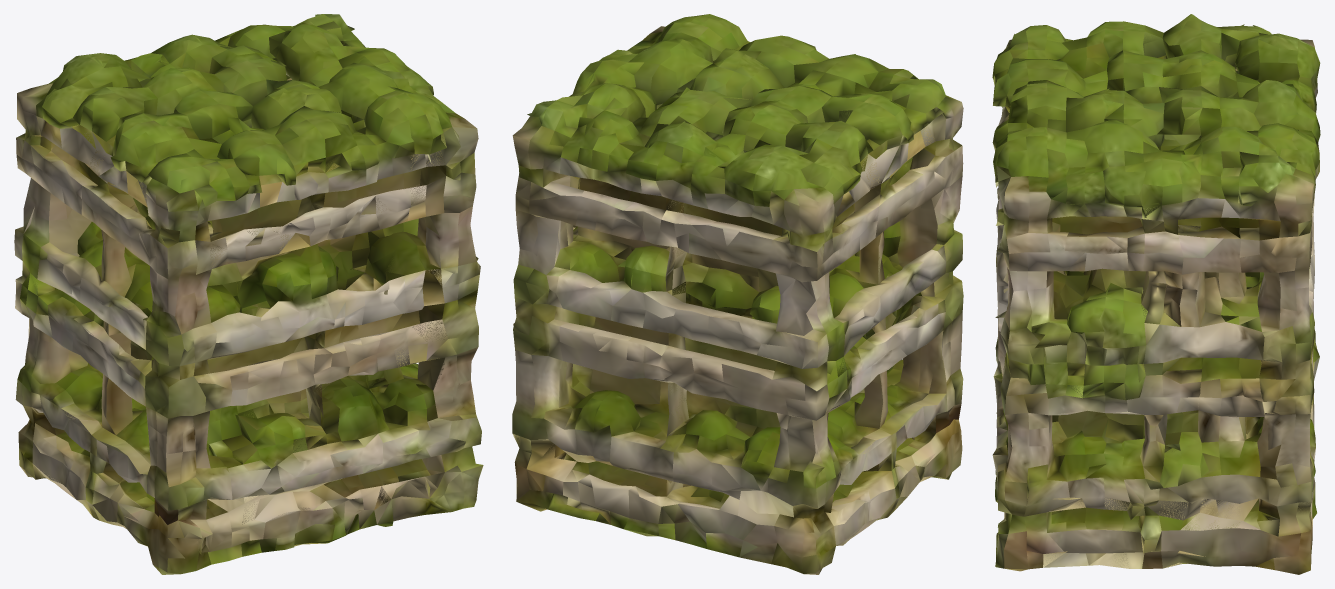
Rendered from caja_madera.glb.
The picture shows the model from 3 angles, left to right: view 1: azimuth 30°, elevation 25°; view 2: azimuth 150°, elevation 25°; view 3: azimuth 270°, elevation 25°; orthographic projection. The views are drawn at different scales.
Bounding box in the file's own units: 1.57 × 1.88 × 1.33.
Materials: 1 (1 with a texture image).
